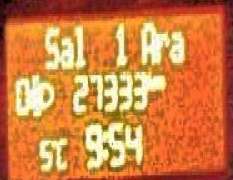0: (14, 72, 28, 114)
1: (113, 18, 128, 65)
2: (71, 72, 86, 112)
3: (131, 67, 146, 109), (103, 69, 117, 111), (118, 67, 132, 109)
4: (123, 118, 142, 162)
5: (109, 118, 124, 165), (37, 136, 50, 169)
7: (88, 69, 102, 109)
9: (84, 120, 101, 167)
X: (139, 18, 154, 65), (43, 22, 58, 67), (169, 25, 185, 63), (72, 22, 85, 67), (154, 27, 168, 62), (59, 33, 73, 67), (55, 136, 65, 169), (102, 125, 108, 160), (146, 67, 154, 91), (154, 71, 164, 89)
